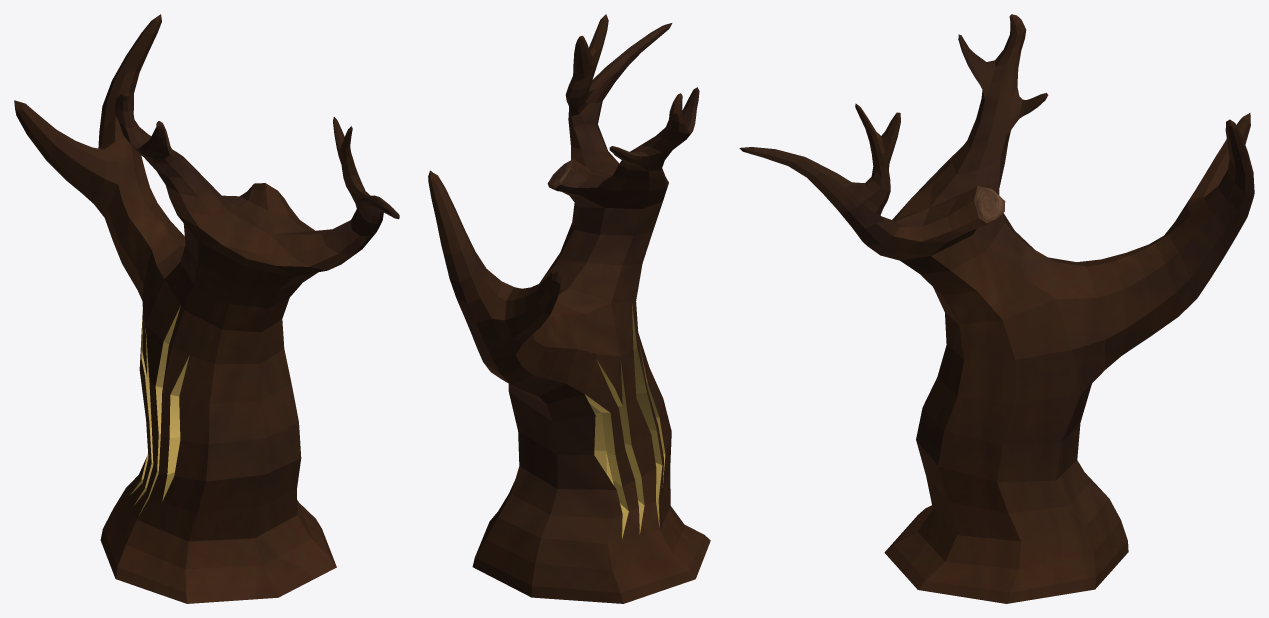
The model's file is F_Tree_Tunnel_1.fbx.
The picture shows the model from 3 angles, left to right: view 1: azimuth 30°, elevation 25°; view 2: azimuth 150°, elevation 25°; view 3: azimuth 270°, elevation 25°; orthographic projection. The views are drawn at different scales.
Parts seen in each view (by area): view 1: F_Tree_Tunnel_1; view 2: F_Tree_Tunnel_1; view 3: F_Tree_Tunnel_1.
Part boxes in pixels (left/top/right/bottom): F_Tree_Tunnel_1: left=14, top=14, right=399, bottom=603; F_Tree_Tunnel_1: left=428, top=14, right=710, bottom=603; F_Tree_Tunnel_1: left=739, top=14, right=1254, bottom=603.
Bounding box in the file's own units: 9.72 × 10.27 × 4.61.
Materials: 1 (1 with a texture image).
